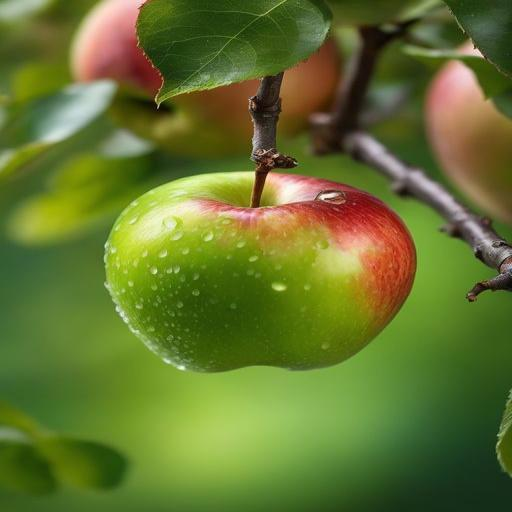apple: (105, 172, 414, 371)
